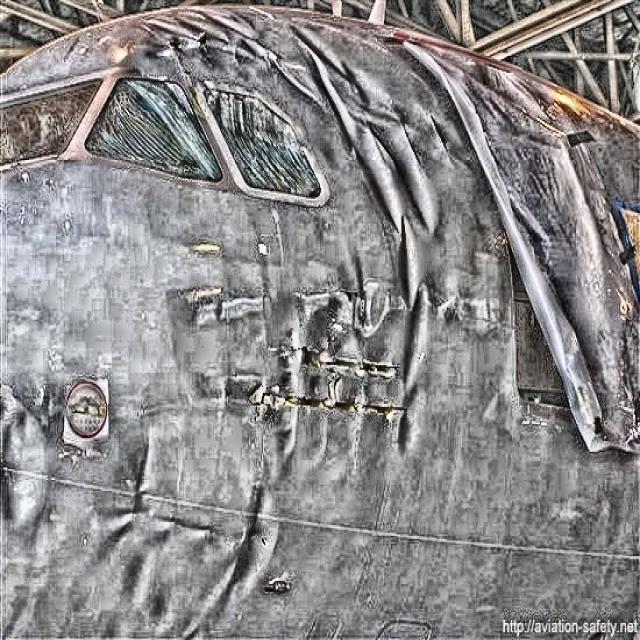crack: (261, 340, 408, 426)
